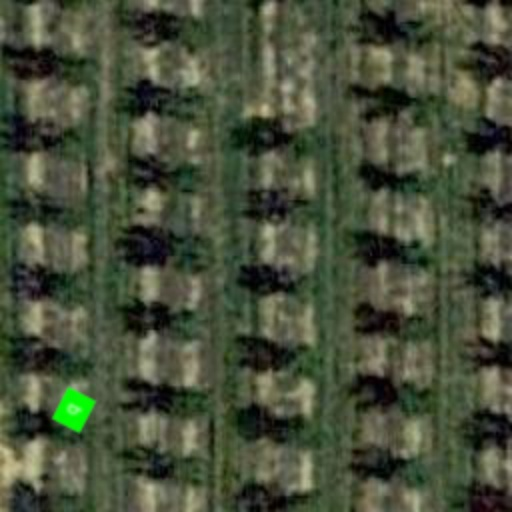rectangle: (48, 384, 100, 436)
